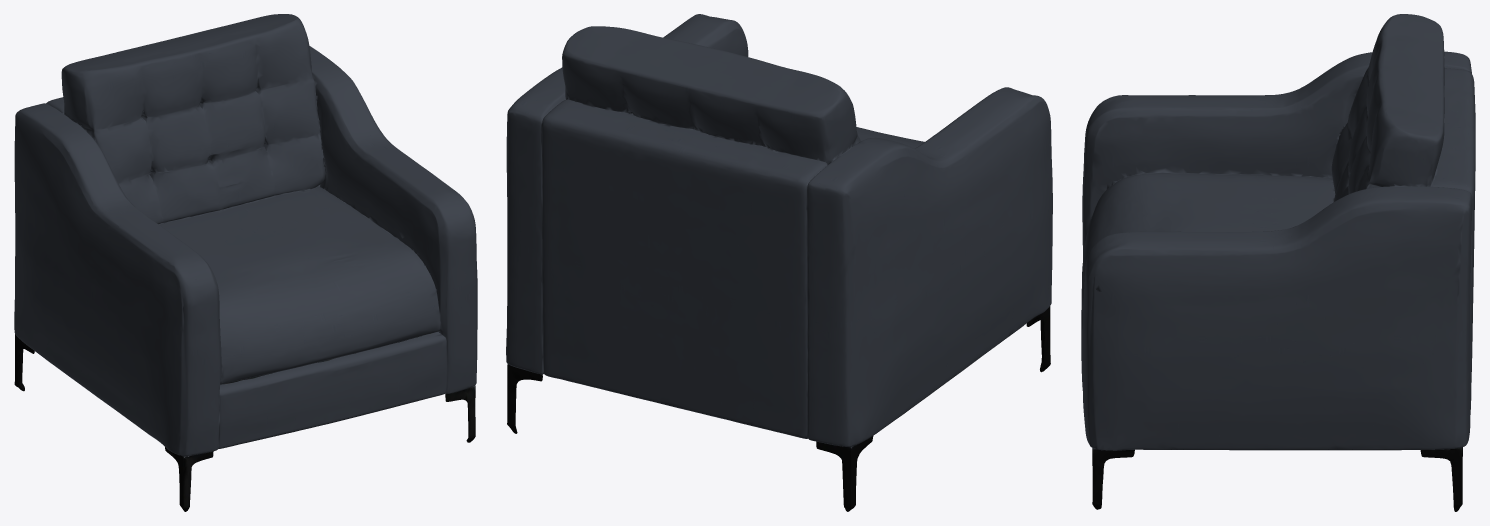
3 renders of one model, left to right at view 1: azimuth 30°, elevation 25°; view 2: azimuth 150°, elevation 25°; view 3: azimuth 270°, elevation 25°, orthographic. The views are drawn at different scales.
Visible parts, largest first — view 1: tripo_node_9000c36e-9ab3-46f5-a9cc-43d85edbd994; view 2: tripo_node_9000c36e-9ab3-46f5-a9cc-43d85edbd994; view 3: tripo_node_9000c36e-9ab3-46f5-a9cc-43d85edbd994.
Part boxes in pixels (x1,y1,x2,y2): tripo_node_9000c36e-9ab3-46f5-a9cc-43d85edbd994: (14, 14, 477, 511); tripo_node_9000c36e-9ab3-46f5-a9cc-43d85edbd994: (506, 14, 1052, 511); tripo_node_9000c36e-9ab3-46f5-a9cc-43d85edbd994: (1081, 14, 1475, 511).
Size of the model in its own units: 0.8 by 0.82 by 0.8.
Materials: 2 (2 with a texture image).
